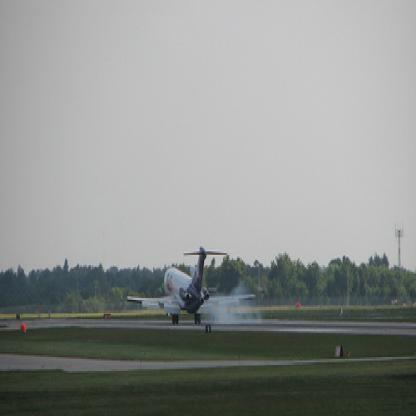aeroplane: (126, 244, 256, 326)
